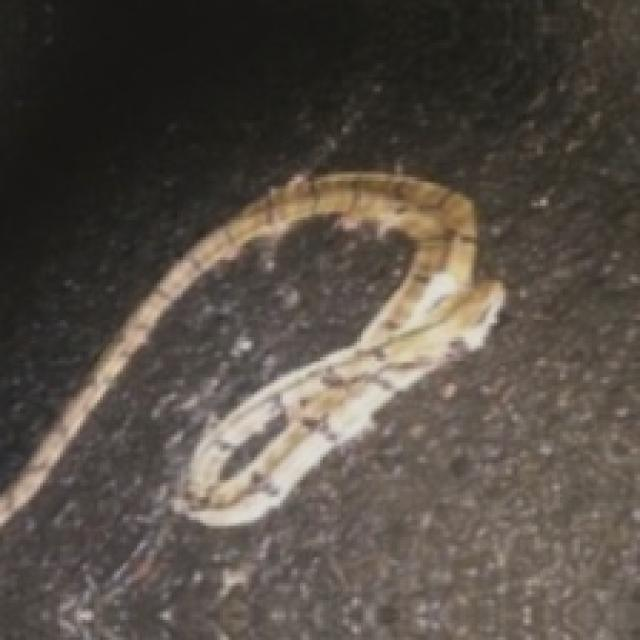dog-toothed cat snake: (0, 171, 503, 526)
